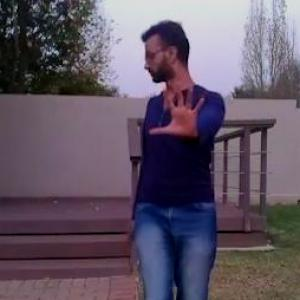follow_hand: (147, 76, 209, 143)
